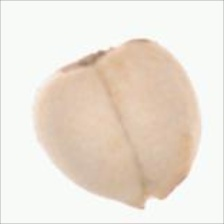L3: (130, 190, 176, 210)
L4: (32, 38, 201, 210)
